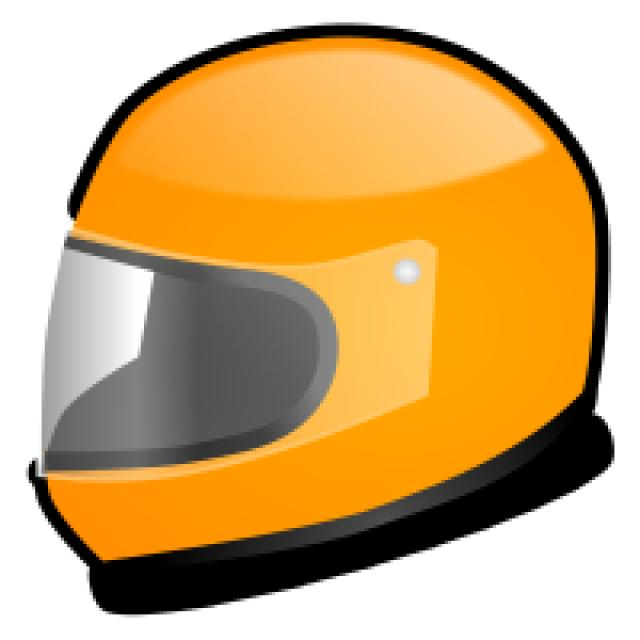Helmet: (31, 26, 608, 560)
